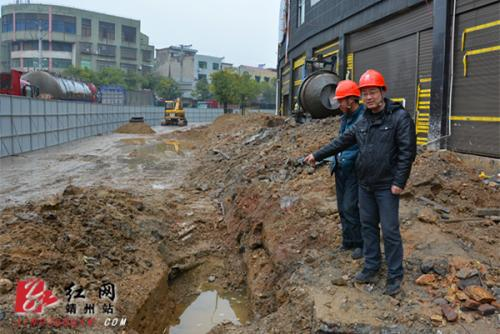helmet: (358, 68, 389, 110), (335, 79, 362, 115)
